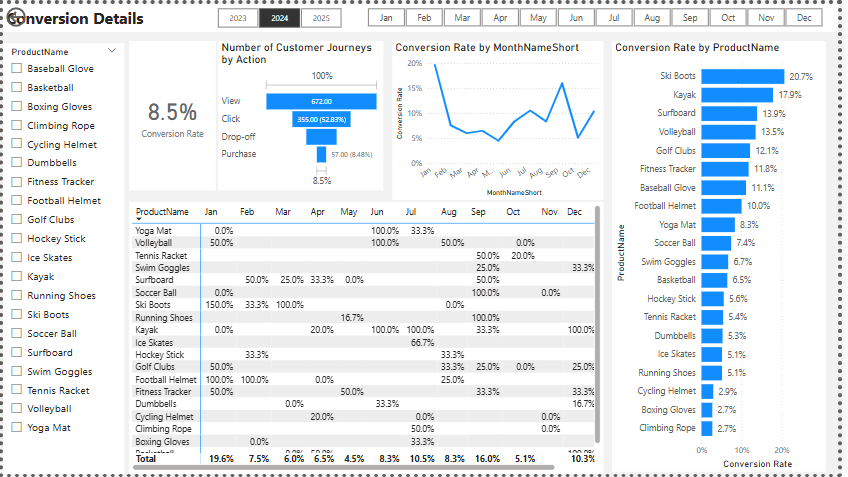

What the dashboard file says about the page in this screenshot:
{"tool":"powerbi","page":{"name":"Coversion Details","canvas":[1280,720],"ordinal":1},"visuals":[{"type":"textbox","box":[0,0,1280.4,42.9],"z":0},{"type":"slicer","fields":{"Values":["dim_products.ProductName"]},"box":[0,58.9,185.7,660.7],"z":1000},{"type":"lineChart","fields":{"Y":["_Calculations.Conversion Rate"],"Category":["Calendar.MonthNameShort"]},"box":[596.4,58.2,323.6,243.6],"z":2000},{"type":"slicer","fields":{"Values":["Calendar.Year"]},"box":[303.6,0,239.3,42.9],"z":3000},{"type":"slicer","fields":{"Values":["Calendar.MonthNameShort"]},"box":[533.9,0,746.4,39.3],"z":4000},{"type":"actionButton","box":[0,0,100,40],"z":5000},{"type":"card","fields":{"Values":["_Calculations.Conversion Rate"]},"box":[192.7,58.2,132.7,229.1],"z":6000},{"type":"clusteredBarChart","fields":{"Category":["dim_products.ProductName"],"Y":["_Calculations.Conversion Rate"]},"box":[932.7,58.2,327.3,660],"z":7000},{"type":"pivotTable","fields":{"Values":["_Calculations.Conversion Rate"],"Rows":["dim_products.ProductName"],"Columns":["Calendar.MonthNameShort"]},"box":[192.7,301.8,727.3,416.4],"z":8000},{"type":"funnel","fields":{"Y":["_Calculations.Number of Customer Journeys"],"Category":["fact_customer_journey.Action"]},"box":[330.9,58.2,252.7,229.1],"z":9000}]}

Visuals, with their boxes in screenshot pixels (x1, y1, x2, y2), scaled from the page's 1280x720 canvas onto the 848x477 screenshot:
textbox: <bbox>0, 0, 847, 28</bbox>
slicer - dim_products.ProductName: <bbox>0, 39, 123, 476</bbox>
lineChart - _Calculations.Conversion Rate x Calendar.MonthNameShort: <bbox>395, 39, 610, 200</bbox>
slicer - Calendar.Year: <bbox>201, 0, 360, 28</bbox>
slicer - Calendar.MonthNameShort: <bbox>354, 0, 847, 26</bbox>
actionButton: <bbox>0, 0, 66, 26</bbox>
card - _Calculations.Conversion Rate: <bbox>128, 39, 216, 190</bbox>
clusteredBarChart - dim_products.ProductName x _Calculations.Conversion Rate: <bbox>618, 39, 835, 476</bbox>
pivotTable - _Calculations.Conversion Rate x dim_products.ProductName: <bbox>128, 200, 610, 476</bbox>
funnel - _Calculations.Number of Customer Journeys x fact_customer_journey.Action: <bbox>219, 39, 387, 190</bbox>
